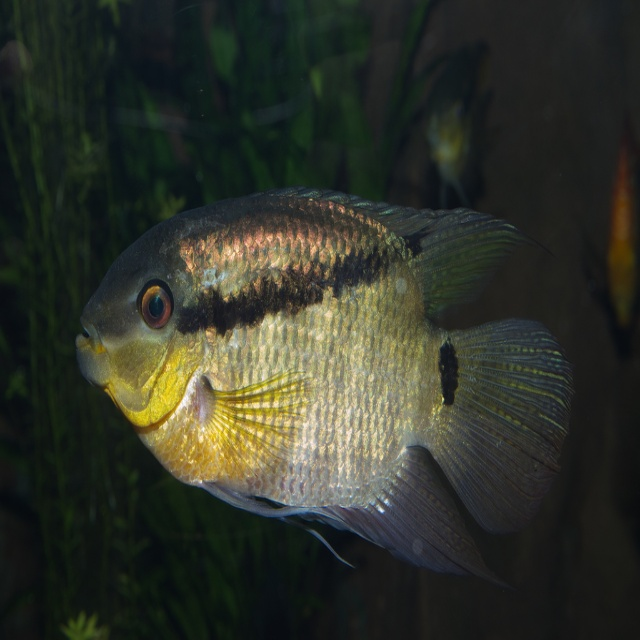Fish: (72, 186, 572, 584)
